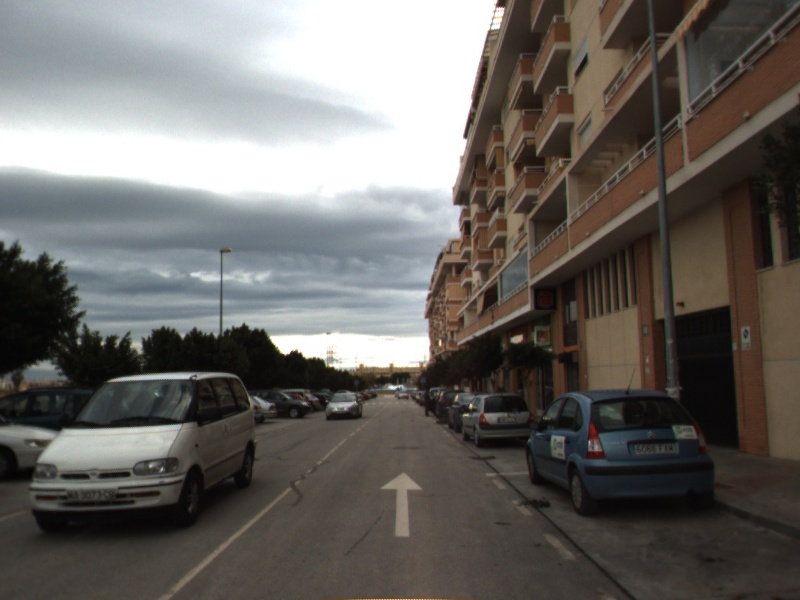STRAIGHT: (378, 470, 425, 538)
